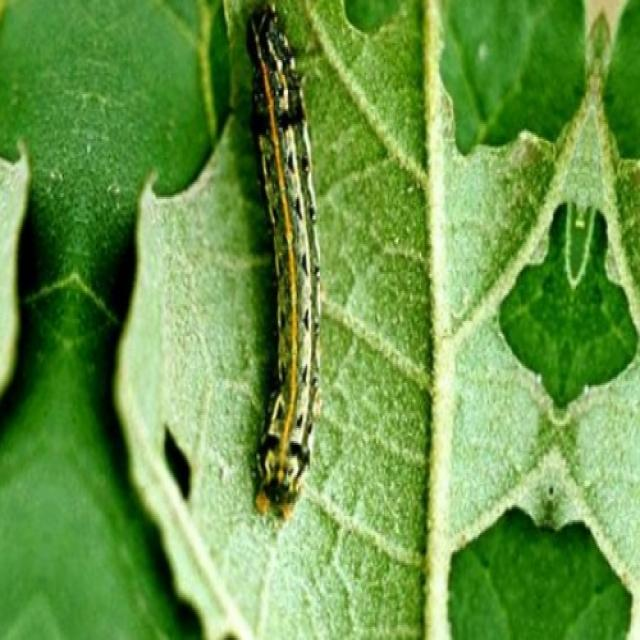Armyworm: (241, 1, 331, 517)
Armyworm_damage: (149, 408, 210, 519)
